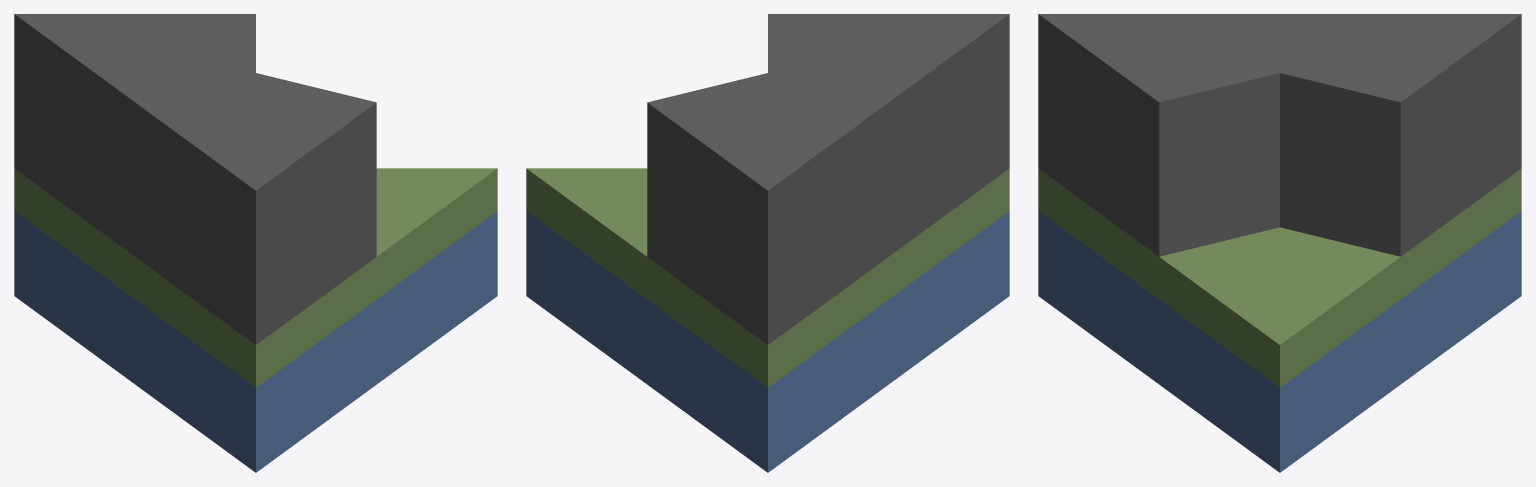
File: tri_23.glb
3 views of the same model, side by side, from view 1: azimuth 30°, elevation 25°; view 2: azimuth 150°, elevation 25°; view 3: azimuth 270°, elevation 25° (orthographic).
Parts seen in each view (by area): view 1: tri_23; view 2: tri_23; view 3: tri_23.
Part boxes in pixels (x1,y1,x2,y2): tri_23: [14, 14, 497, 472]; tri_23: [526, 14, 1009, 472]; tri_23: [1038, 14, 1521, 472].
Bounding box in the file's own units: 0.7423 × 0.5521 × 0.8571.
